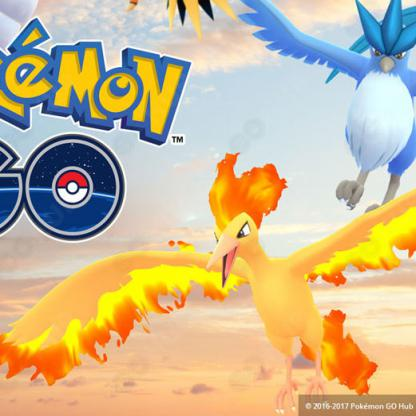Moltres: (29, 163, 416, 416)
